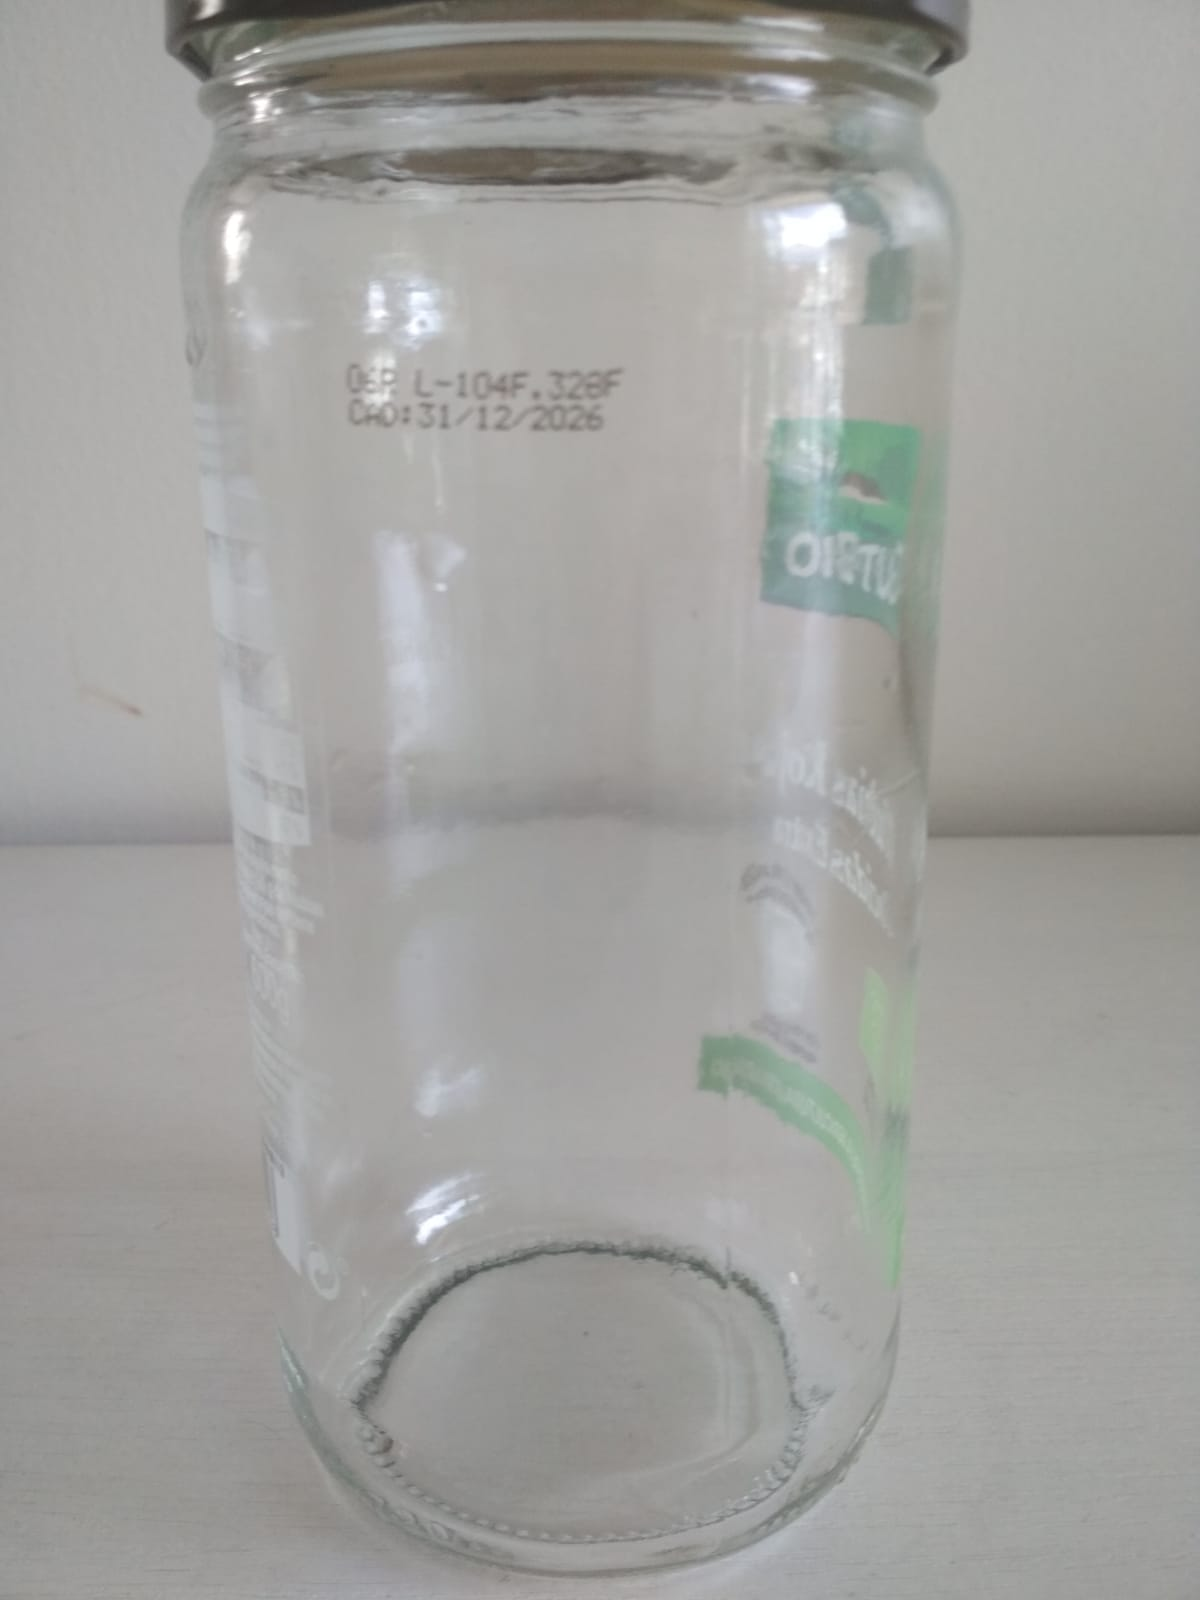pote cristal: (164, 6, 982, 1577)
